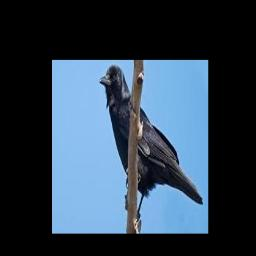Crow: (100, 63, 203, 213)
